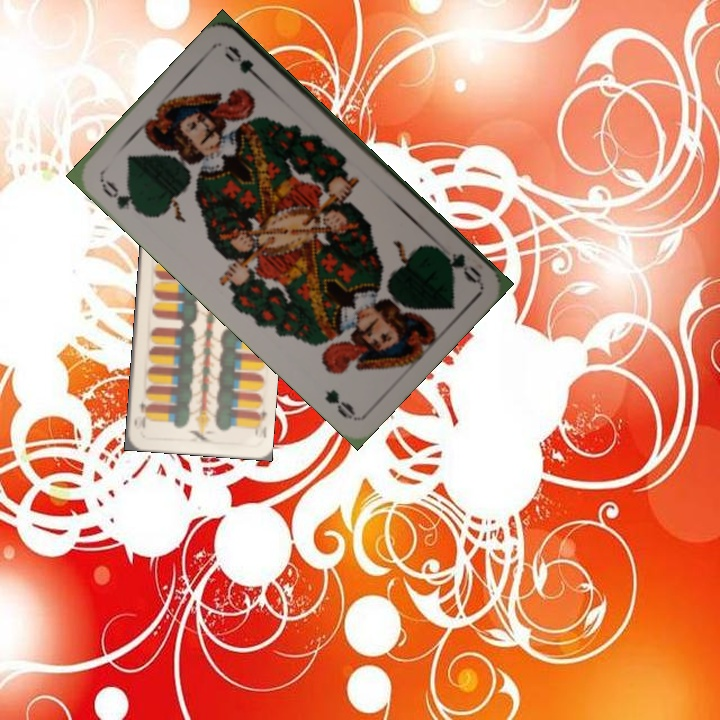E10: (251, 405, 269, 440)
GO: (430, 243, 484, 286), (96, 174, 145, 217)
